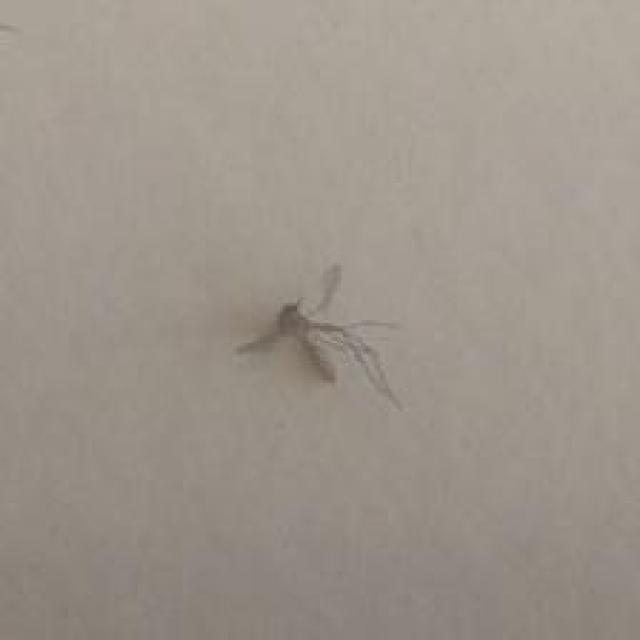Culex: (234, 261, 403, 413)
